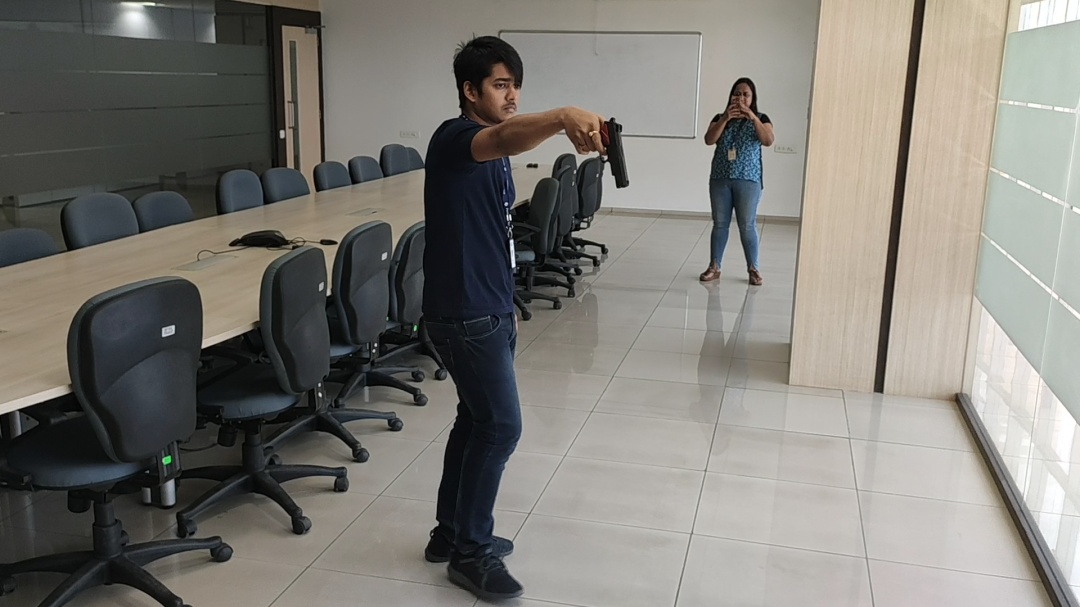gun: (595, 115, 632, 191)
